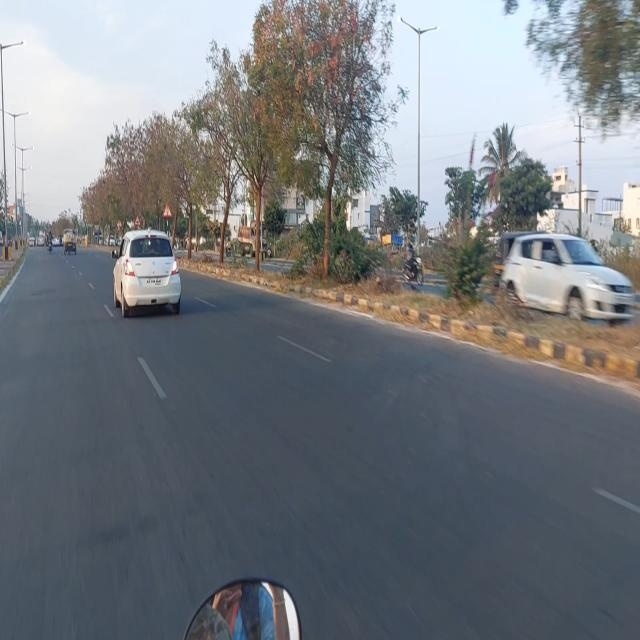bien_nguy_hiem: (162, 198, 172, 218)
